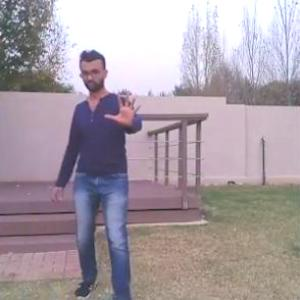follow_hand: (103, 82, 148, 130)
